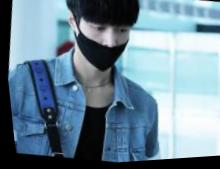WRONG: (78, 18, 134, 72)
